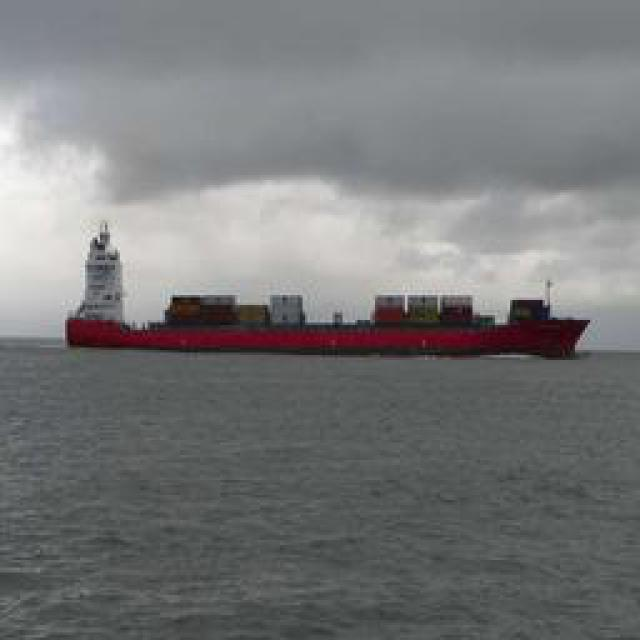Ship: (50, 277, 588, 357)
